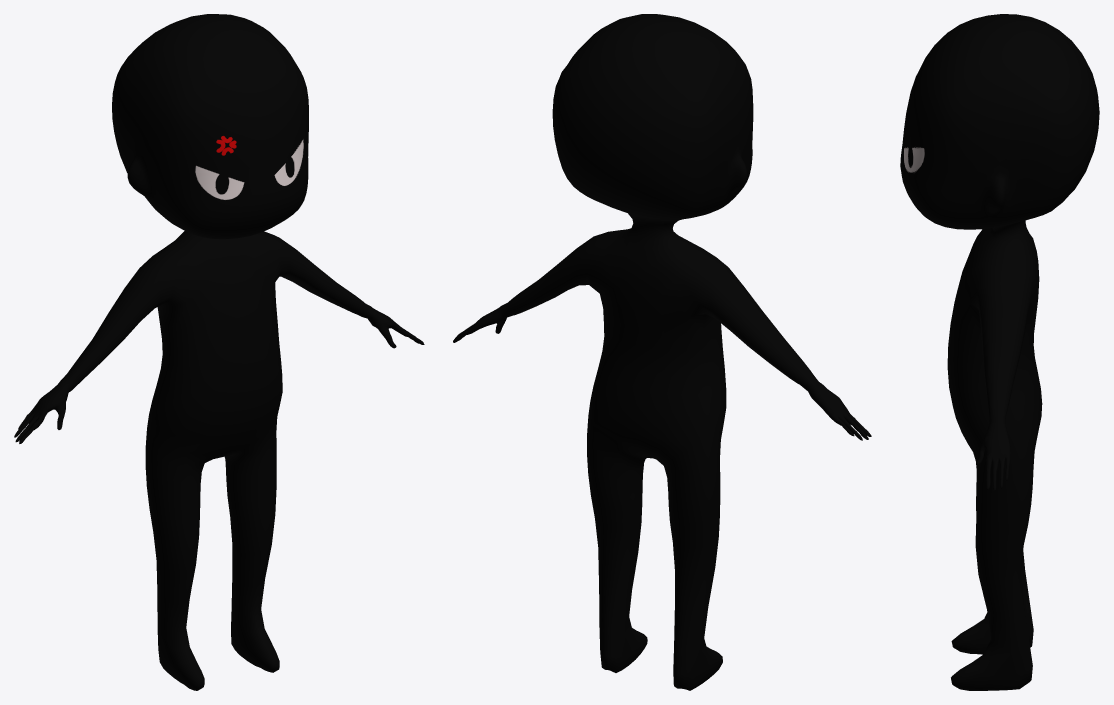
The picture shows the model from 3 angles, left to right: view 1: azimuth 30°, elevation 25°; view 2: azimuth 150°, elevation 25°; view 3: azimuth 270°, elevation 25°; orthographic projection.
Visible parts, largest first — view 1: BODY_0; view 2: BODY_0; view 3: BODY_0.
Part boxes in pixels (box(x1,y1,x2,y2)): BODY_0: box(14, 14, 424, 690); BODY_0: box(453, 14, 871, 690); BODY_0: box(900, 14, 1099, 690).
Bounding box in the file's own units: 14.06 × 21.28 × 5.93.
Materials: 1 (1 with a texture image).
